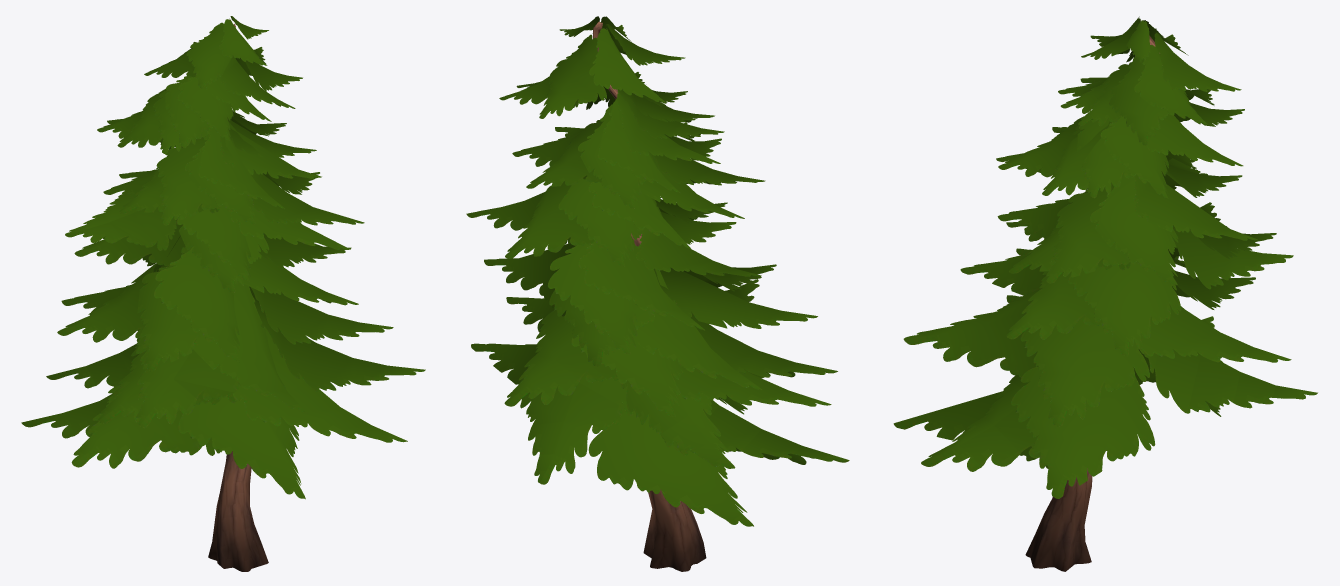
The model's file is pine-5.glb.
The picture shows the model from 3 angles, left to right: view 1: azimuth 30°, elevation 25°; view 2: azimuth 150°, elevation 25°; view 3: azimuth 270°, elevation 25°; orthographic projection. The views are drawn at different scales.
Visible parts, largest first — view 1: Pine_5; view 2: Pine_5; view 3: Pine_5.
Boxes of the visible parts, x1,y1,x2,y2 form: Pine_5: (21, 16, 425, 571); Pine_5: (466, 16, 849, 571); Pine_5: (893, 16, 1317, 571).
Size of the model in its own units: 6.42 by 8.72 by 6.22.
2 materials, 2 textured.
